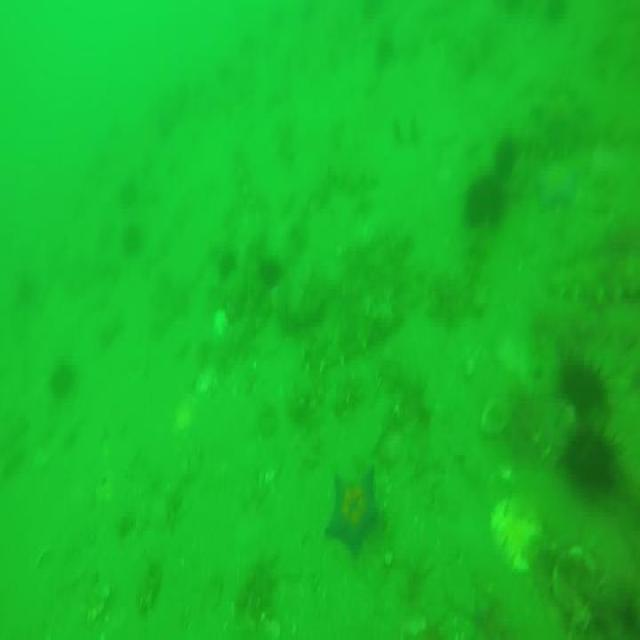echinus: (562, 428, 620, 493), (562, 354, 608, 412), (462, 169, 506, 226), (490, 130, 520, 169)
holothurian: (300, 299, 396, 373), (550, 252, 640, 314), (170, 401, 197, 430)
scallop: (552, 545, 605, 640), (491, 492, 541, 564), (478, 394, 516, 436)
starfish: (323, 466, 383, 556)
